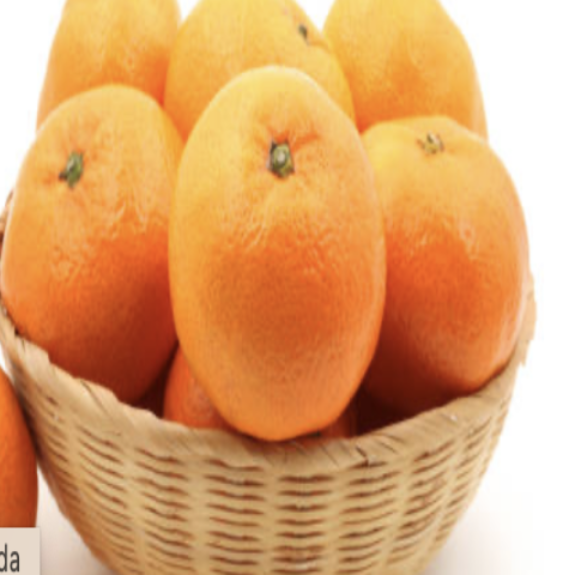orange: (162, 53, 400, 438), (324, 92, 574, 405), (4, 57, 194, 440)
